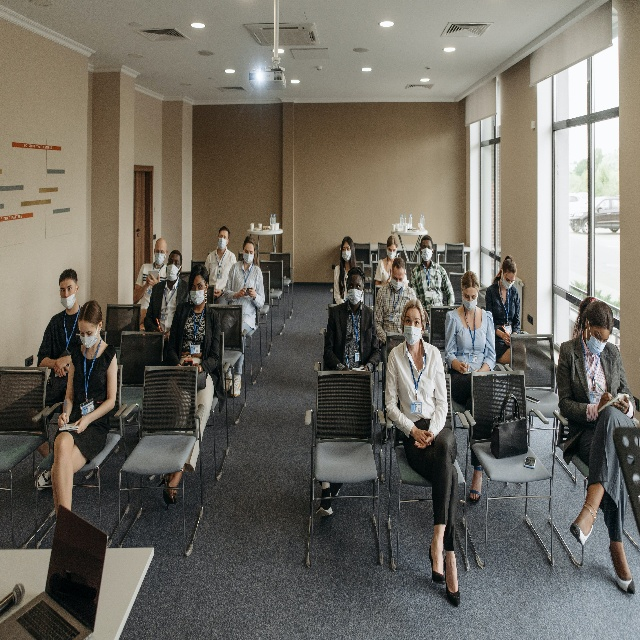Gafas: (154, 249, 165, 256)
Mascara: (585, 324, 606, 355), (80, 325, 101, 349), (402, 323, 422, 346), (189, 283, 208, 306), (59, 286, 77, 309), (461, 289, 478, 310), (347, 288, 363, 307), (165, 263, 181, 281), (501, 271, 514, 290), (391, 276, 405, 291), (420, 247, 433, 262), (242, 250, 255, 264), (154, 253, 167, 265), (218, 238, 228, 251), (386, 249, 397, 260), (341, 250, 351, 262)
Sin_guantes: (414, 432, 435, 450), (414, 427, 433, 446), (612, 394, 629, 414), (53, 355, 70, 374), (73, 416, 88, 434), (598, 391, 612, 410), (146, 272, 160, 288), (58, 412, 70, 428), (57, 366, 69, 379), (234, 287, 246, 300), (459, 361, 470, 374), (423, 308, 430, 327), (192, 362, 202, 373), (247, 286, 255, 298), (214, 289, 222, 298), (502, 331, 510, 340), (163, 330, 170, 340), (153, 326, 163, 332), (342, 365, 352, 371), (504, 338, 510, 346)
